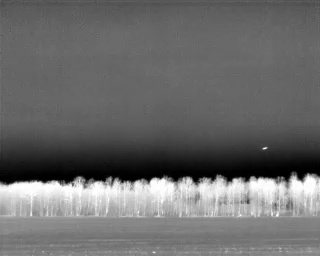DRONE: (259, 144, 271, 154)
